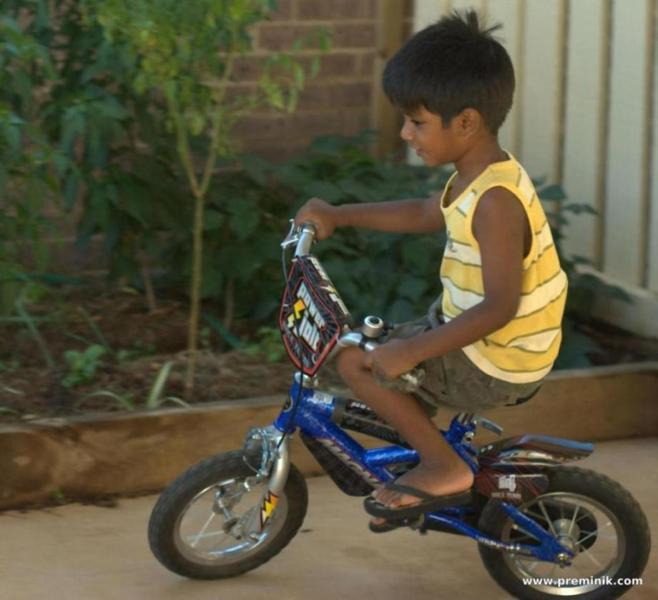person: (295, 17, 566, 535)
